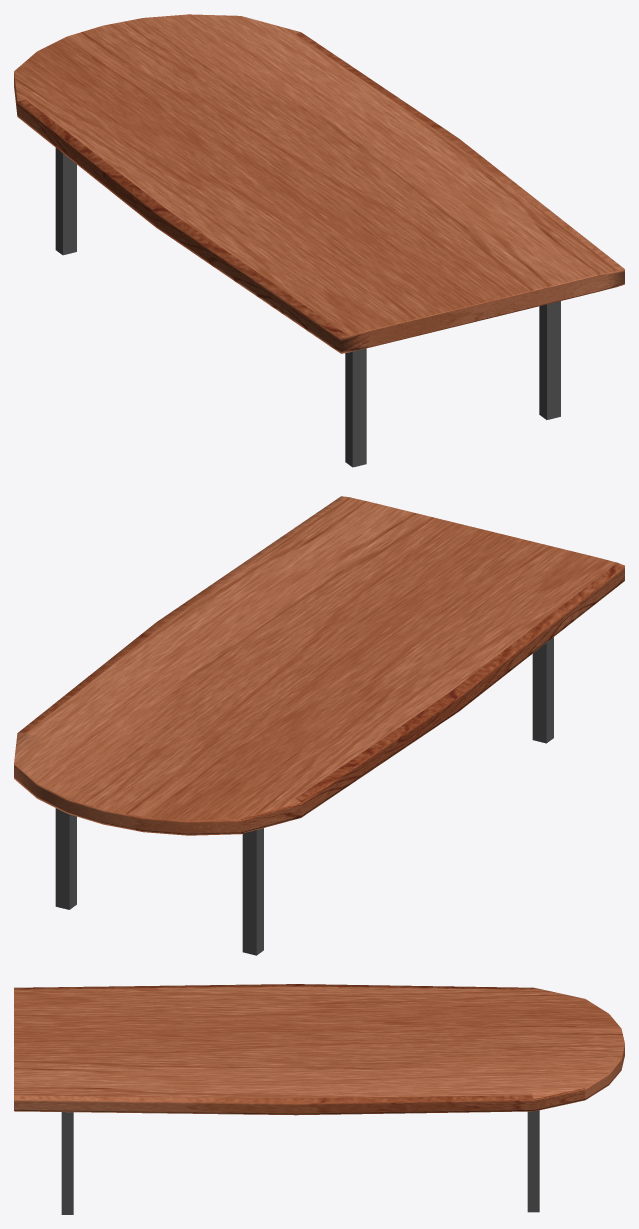
Rendered from table_flat_pill_shape.fbx.
3 renders of one model, top to bottom at view 1: azimuth 30°, elevation 25°; view 2: azimuth 150°, elevation 25°; view 3: azimuth 270°, elevation 25°, orthographic. The views are drawn at different scales.
Parts seen in each view (by area): view 1: pCube1, pCube4, pCube5, pCube3; view 2: pCube1, pCube3, pCube4, pCube2; view 3: pCube1, pCube5, pCube2.
Part boxes in pixels (<box>): pCube1: <box>14,14,624,353</box>; pCube4: <box>345,348,366,467</box>; pCube5: <box>539,301,560,419</box>; pCube3: <box>55,148,76,255</box>; pCube1: <box>14,496,624,835</box>; pCube3: <box>242,828,263,955</box>; pCube4: <box>532,637,553,743</box>; pCube2: <box>55,808,76,909</box>; pCube1: <box>14,984,624,1115</box>; pCube5: <box>61,1112,73,1214</box>; pCube2: <box>527,1110,539,1212</box>.
Bounding box in the file's own units: 1 × 0.5138 × 2.17.
Materials: 2 (1 with a texture image).
